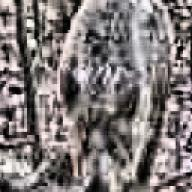boar: (57, 0, 175, 192)
